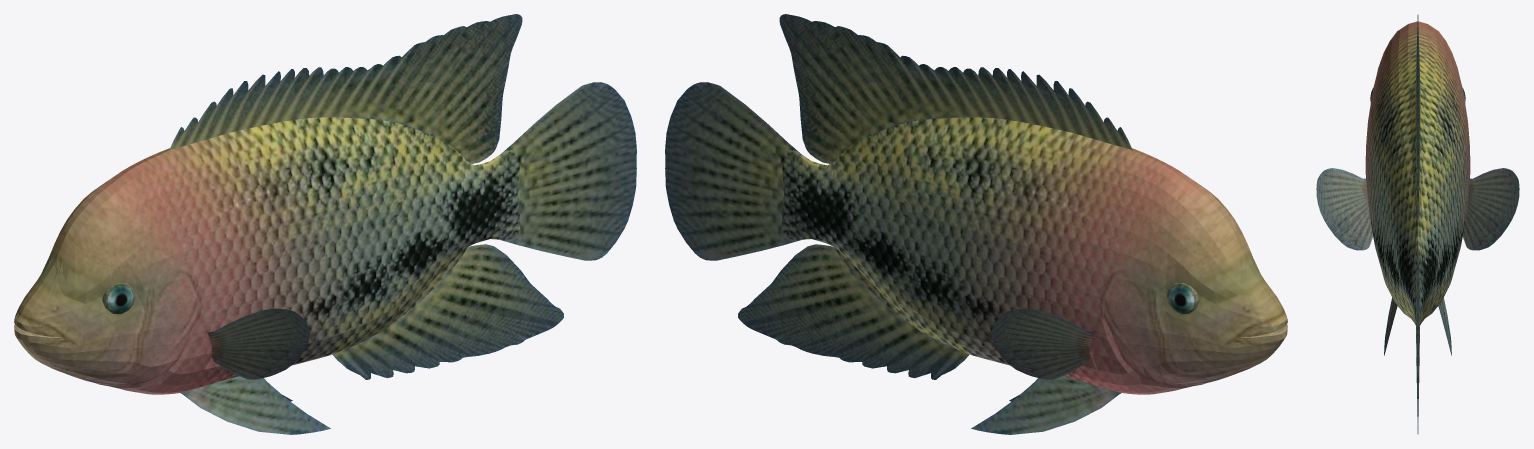
The model's file is fish-a.glb.
3 renders of one model, left to right at view 1: azimuth 30°, elevation 25°; view 2: azimuth 150°, elevation 25°; view 3: azimuth 270°, elevation 25°, orthographic. The views are drawn at different scales.
Bounding box in the file's own units: 2.5 × 1.36 × 0.8017.
1 material, 1 textured.
